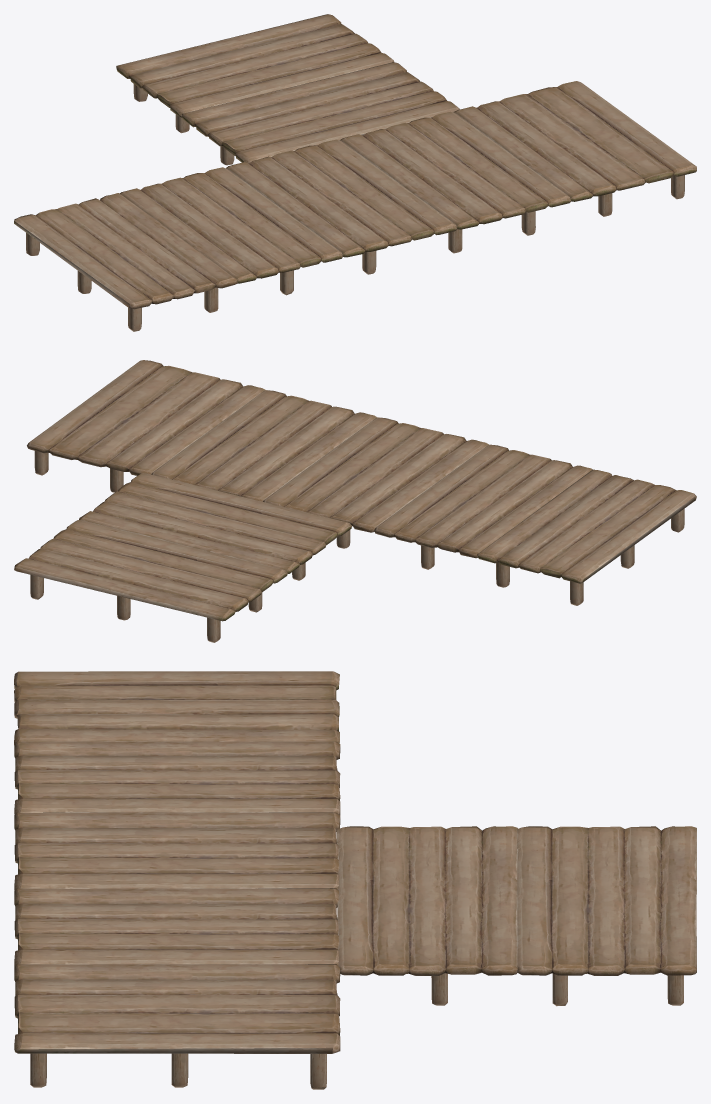
The model's file is Platform_01.fbx.
3 renders of one model, top to bottom at view 1: azimuth 30°, elevation 25°; view 2: azimuth 150°, elevation 25°; view 3: azimuth 270°, elevation 25°, orthographic. The views are drawn at different scales.
Visible parts, largest first — view 1: Platform_LOD0; view 2: Platform_LOD0; view 3: Platform_LOD0.
Part boxes in pixels (bbox=[...]): Platform_LOD0: bbox=[14, 14, 696, 331]; Platform_LOD0: bbox=[14, 360, 696, 642]; Platform_LOD0: bbox=[14, 671, 696, 1089].
Size of what is drawn, in the model's own units: 10.16 by 0.608 by 7.77.
